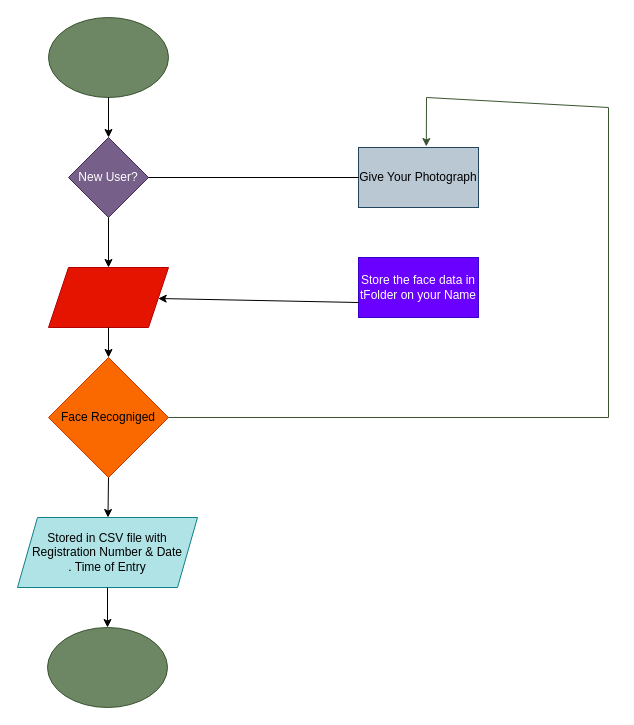
This 634x725 diagram has some shape labels left out. Here are the shapes that lost their labels. From the top down, the centre of each, then its label:
[108,57]: Start
[108,297]: Recognige the face
[107,667]: End
